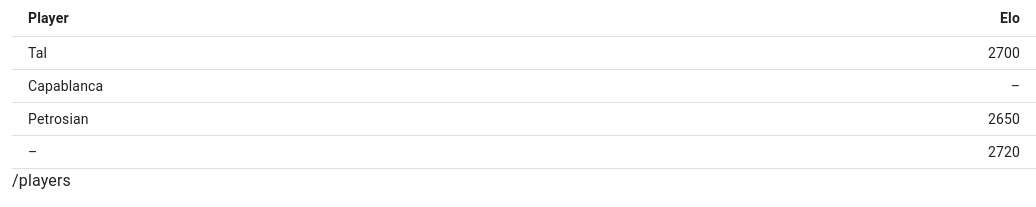
DataTable › row click and row link › follows the link on a click anywhere on the row, through the router
What coordinates should you click on to do the following:
click the cell "2650"
I would click on:
 (844, 120)
Its box is 653,103 -> 1035,136.
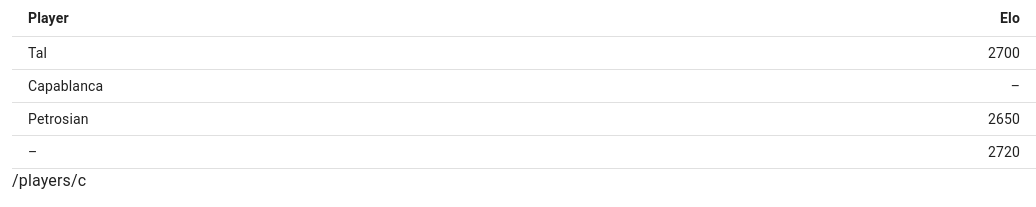
Expected: the text with test id "where" reads "/players/c", 12,171 -> 86,190
